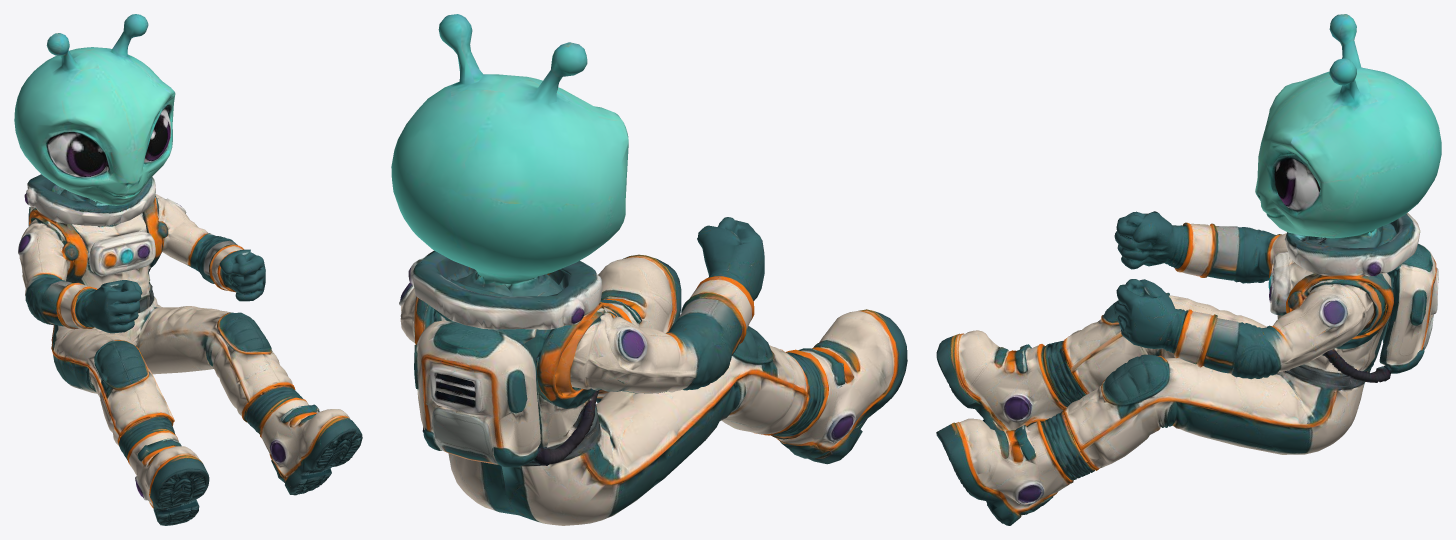
File: astronaut.glb
The picture shows the model from 3 angles, left to right: view 1: azimuth 30°, elevation 25°; view 2: azimuth 150°, elevation 25°; view 3: azimuth 270°, elevation 25°; orthographic projection. The views are drawn at different scales.
Size of the model in its own units: 1.08 by 1.87 by 1.91.
1 material, 1 textured.
